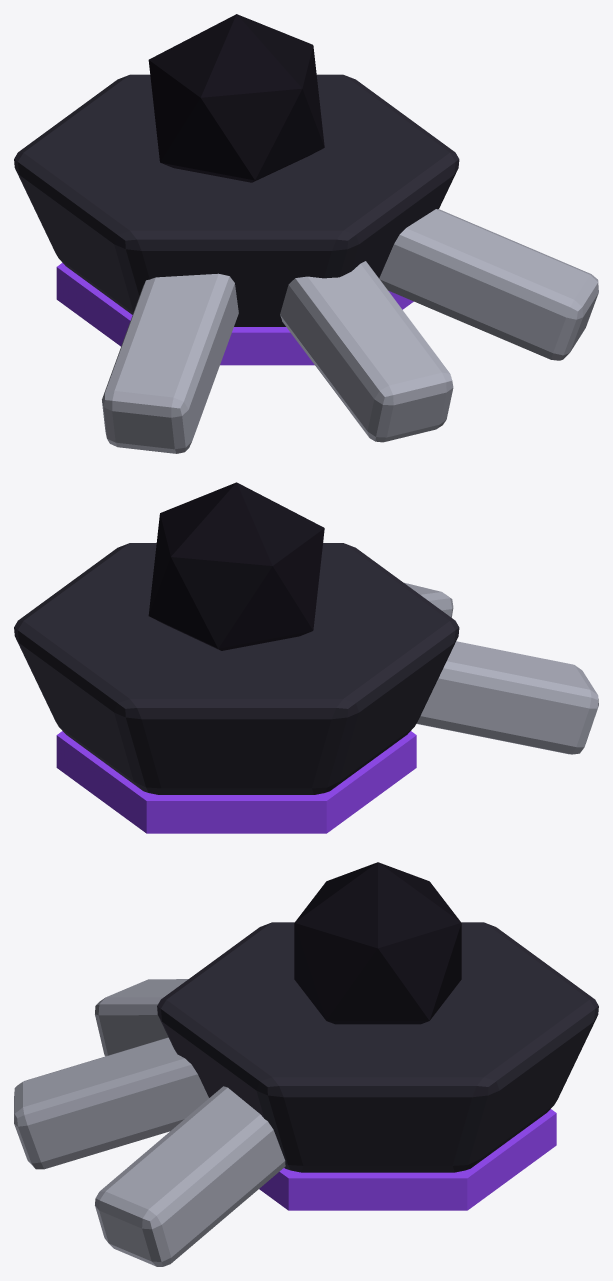
Rendered from crucible_foot.fbx.
3 views of the same model, one above another, from view 1: azimuth 30°, elevation 25°; view 2: azimuth 150°, elevation 25°; view 3: azimuth 270°, elevation 25° (orthographic).
Visible parts, largest first — view 1: crucible_foot; view 2: crucible_foot; view 3: crucible_foot.
Boxes of the visible parts, x1,y1,x2,y2 form: crucible_foot: (14, 14, 598, 453); crucible_foot: (14, 482, 598, 833); crucible_foot: (14, 862, 598, 1266).
Size of the model in its own units: 0.3171 by 0.1814 by 0.3275.
